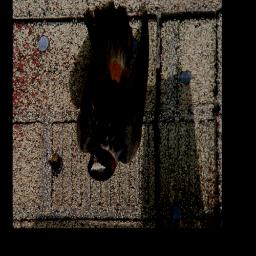Swallow: (77, 2, 151, 182)
